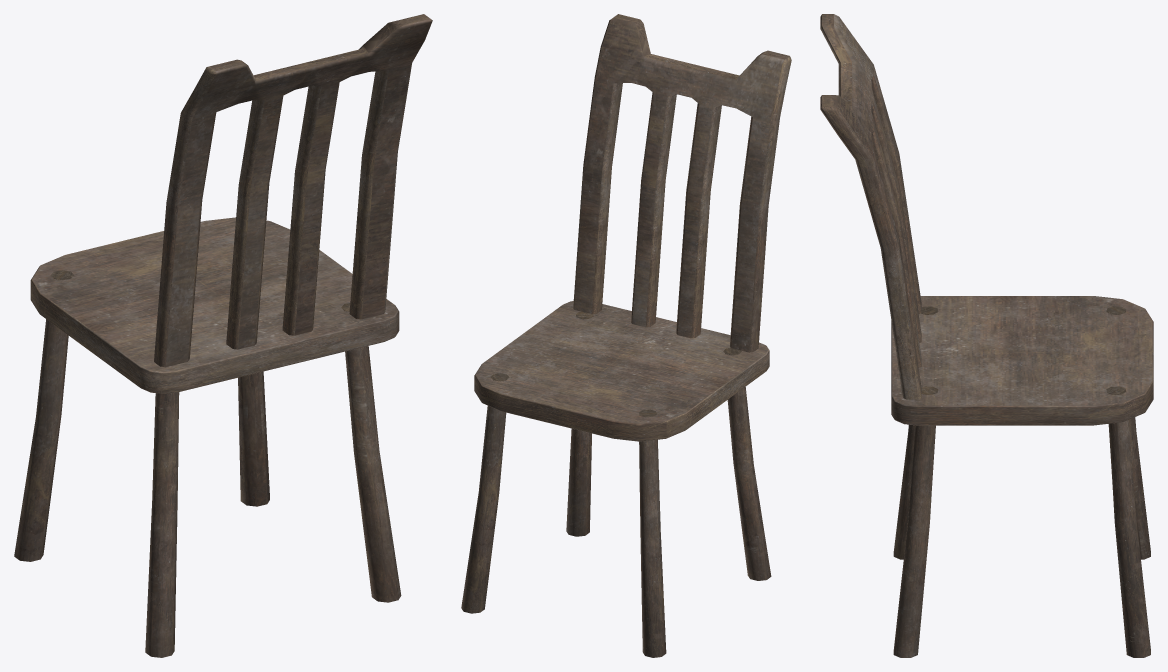
The model's file is SM_Chair_A.fbx.
3 renders of one model, left to right at view 1: azimuth 30°, elevation 25°; view 2: azimuth 150°, elevation 25°; view 3: azimuth 270°, elevation 25°, orthographic. The views are drawn at different scales.
Visible parts, largest first — view 1: SM_Chair_A_LOD0; view 2: SM_Chair_A_LOD0; view 3: SM_Chair_A_LOD0.
Part boxes in pixels (bbox=[...]): SM_Chair_A_LOD0: bbox=[14, 14, 432, 657]; SM_Chair_A_LOD0: bbox=[461, 14, 791, 657]; SM_Chair_A_LOD0: bbox=[820, 14, 1153, 657].
Size of the model in its own units: 57.05 by 72.43 by 131.
Materials: 1 (1 with a texture image).
